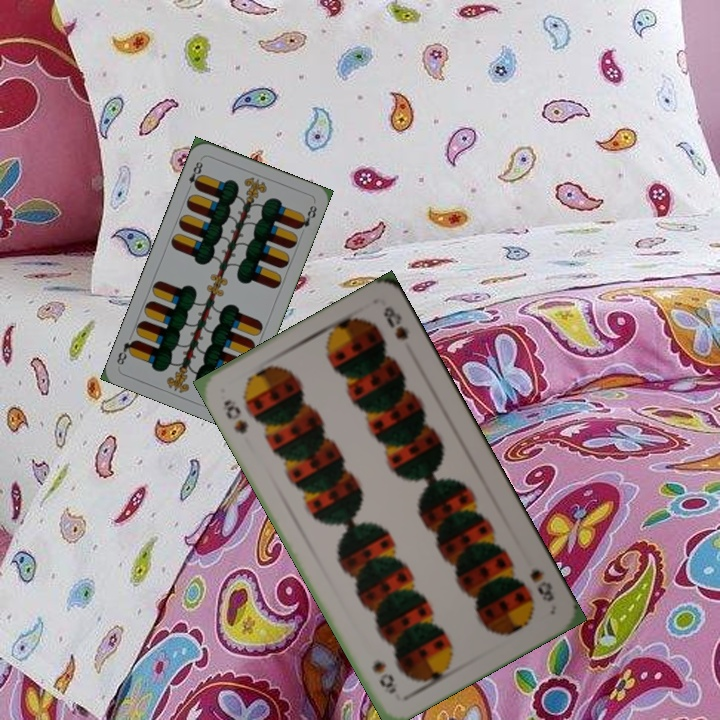E8: (183, 155, 205, 194)
S8: (218, 395, 251, 437), (525, 565, 557, 605)
